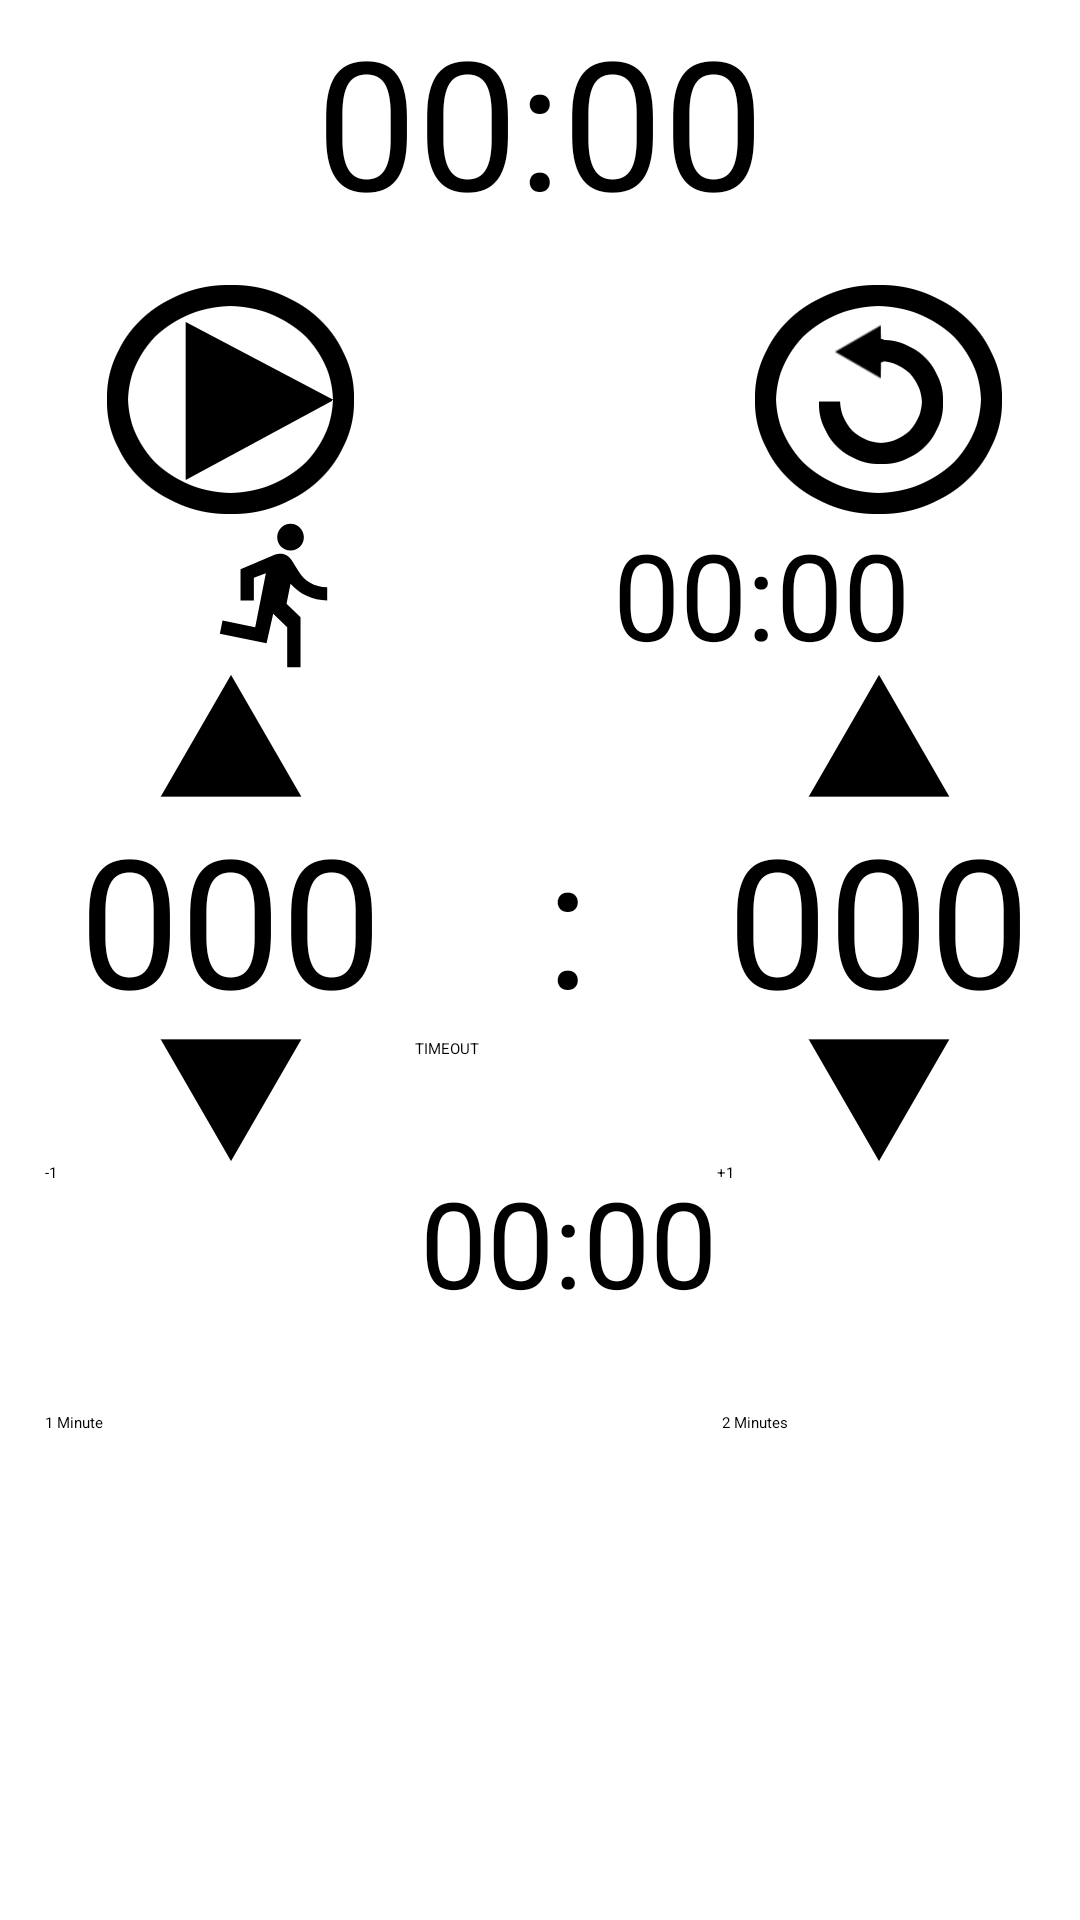

Screen size 1080 × 1920. Icon name, then its box in pixels as {"x1": x1, "y1": y1, "x2": x2, "y2": y2}:
Decrease Score Button: {"x1": 160, "y1": 1039, "x2": 301, "y2": 1161}, {"x1": 808, "y1": 1039, "x2": 949, "y2": 1161}
Flag Runner: {"x1": 220, "y1": 523, "x2": 328, "y2": 668}
Increase Score Button: {"x1": 160, "y1": 675, "x2": 301, "y2": 797}, {"x1": 808, "y1": 675, "x2": 949, "y2": 797}
Play or Pause Button: {"x1": 107, "y1": 285, "x2": 354, "y2": 514}
Reset Button: {"x1": 755, "y1": 285, "x2": 1002, "y2": 514}
